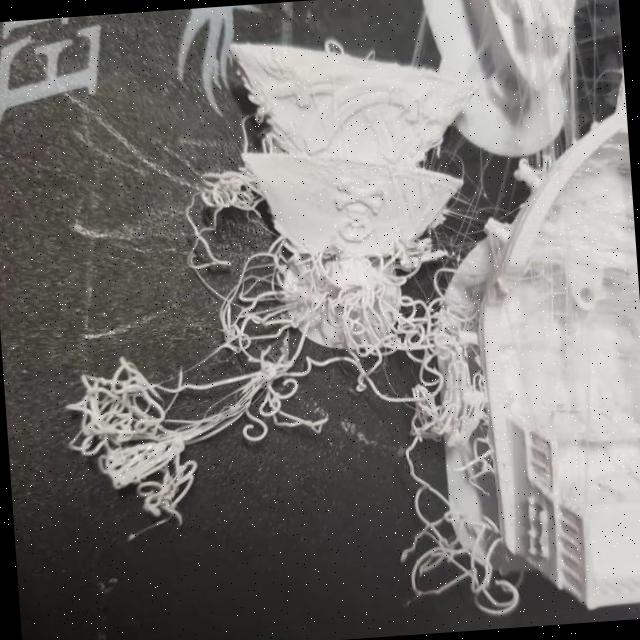spaghetti: (72, 361, 190, 504), (404, 501, 506, 620), (225, 320, 307, 438), (407, 309, 472, 433), (333, 276, 409, 352), (232, 264, 304, 340)
